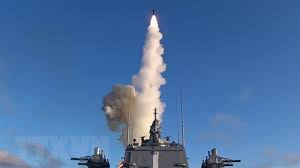ten_lua: (147, 8, 158, 19)
